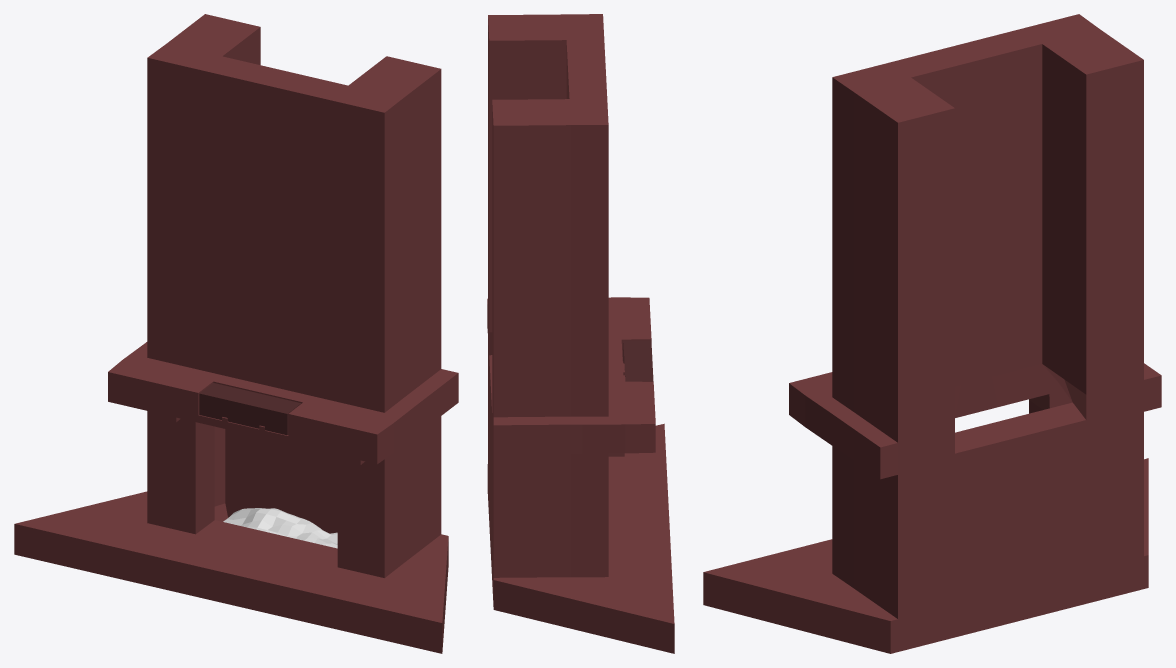
The model's file is MDL_Fireplace_01.fbx.
3 renders of one model, left to right at view 1: azimuth 30°, elevation 25°; view 2: azimuth 150°, elevation 25°; view 3: azimuth 270°, elevation 25°, orthographic. The views are drawn at different scales.
Parts seen in each view (by area): view 1: MDL_Fireplace_Base_01, MDL_Hidden_Shelf_01, MDL_Living_Fireplace_Glowie_01; view 2: MDL_Fireplace_Base_01, MDL_Hidden_Shelf_01; view 3: MDL_Fireplace_Base_01.
Part boxes in pixels (x1=…): MDL_Fireplace_Base_01: x1=14, y1=14, x2=458, y2=653; MDL_Hidden_Shelf_01: x1=199, y1=383, x2=301, y2=435; MDL_Living_Fireplace_Glowie_01: x1=223, y1=508, x2=337, y2=548; MDL_Fireplace_Base_01: x1=487, y1=14, x2=674, y2=653; MDL_Hidden_Shelf_01: x1=623, y1=340, x2=653, y2=381; MDL_Fireplace_Base_01: x1=703, y1=14, x2=1161, y2=653.
Size of the model in its own units: 205 by 306 by 240.
